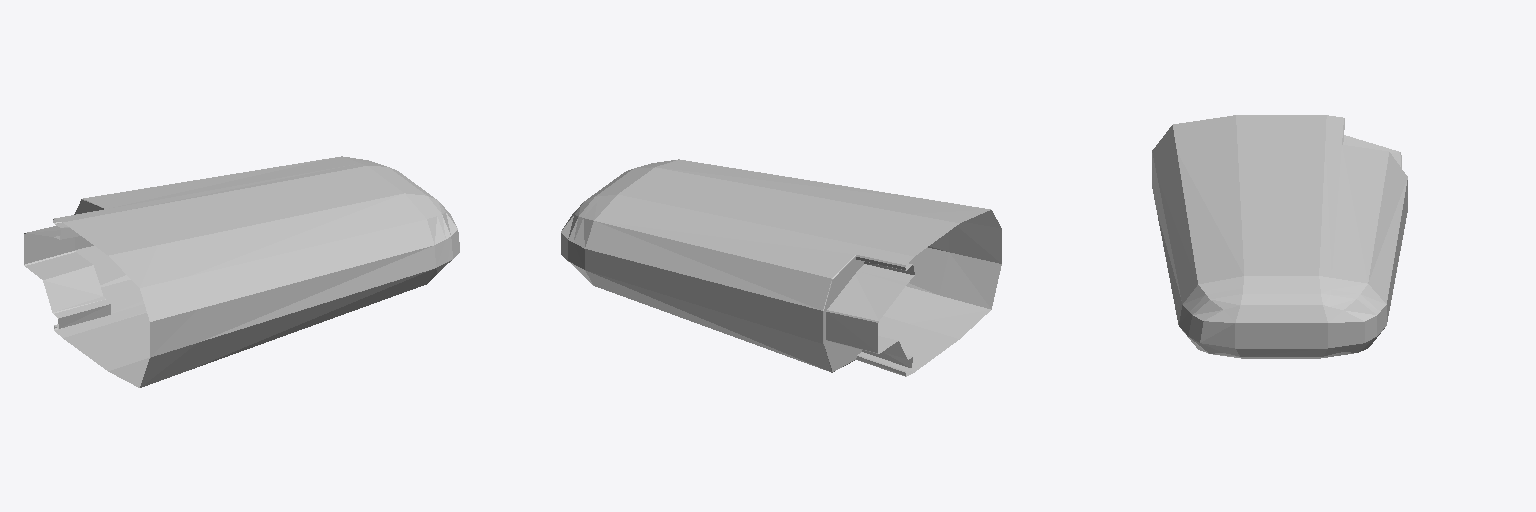
Rendered from shard8.obj.
The picture shows the model from 3 angles: view 1: azimuth 30°, elevation 25°; view 2: azimuth 150°, elevation 25°; view 3: azimuth 270°, elevation 25°; orthographic projection.
Parts seen in each view (by area): view 1: defaultMaterial.006; view 2: defaultMaterial.006; view 3: defaultMaterial.006.
Boxes of the visible parts, <box> form: defaultMaterial.006: <box>24,156,459,387</box>; defaultMaterial.006: <box>561,159,1001,376</box>; defaultMaterial.006: <box>1152,115,1407,358</box>.
Size of the model in its own units: 8.47 by 2.73 by 5.46.